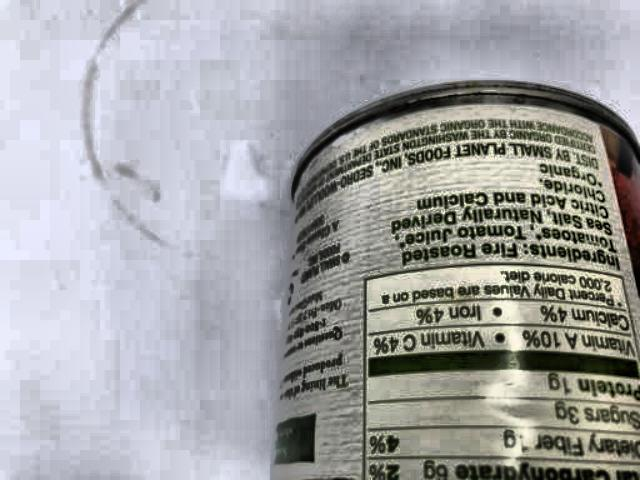Almennt: (205, 52, 640, 480)
